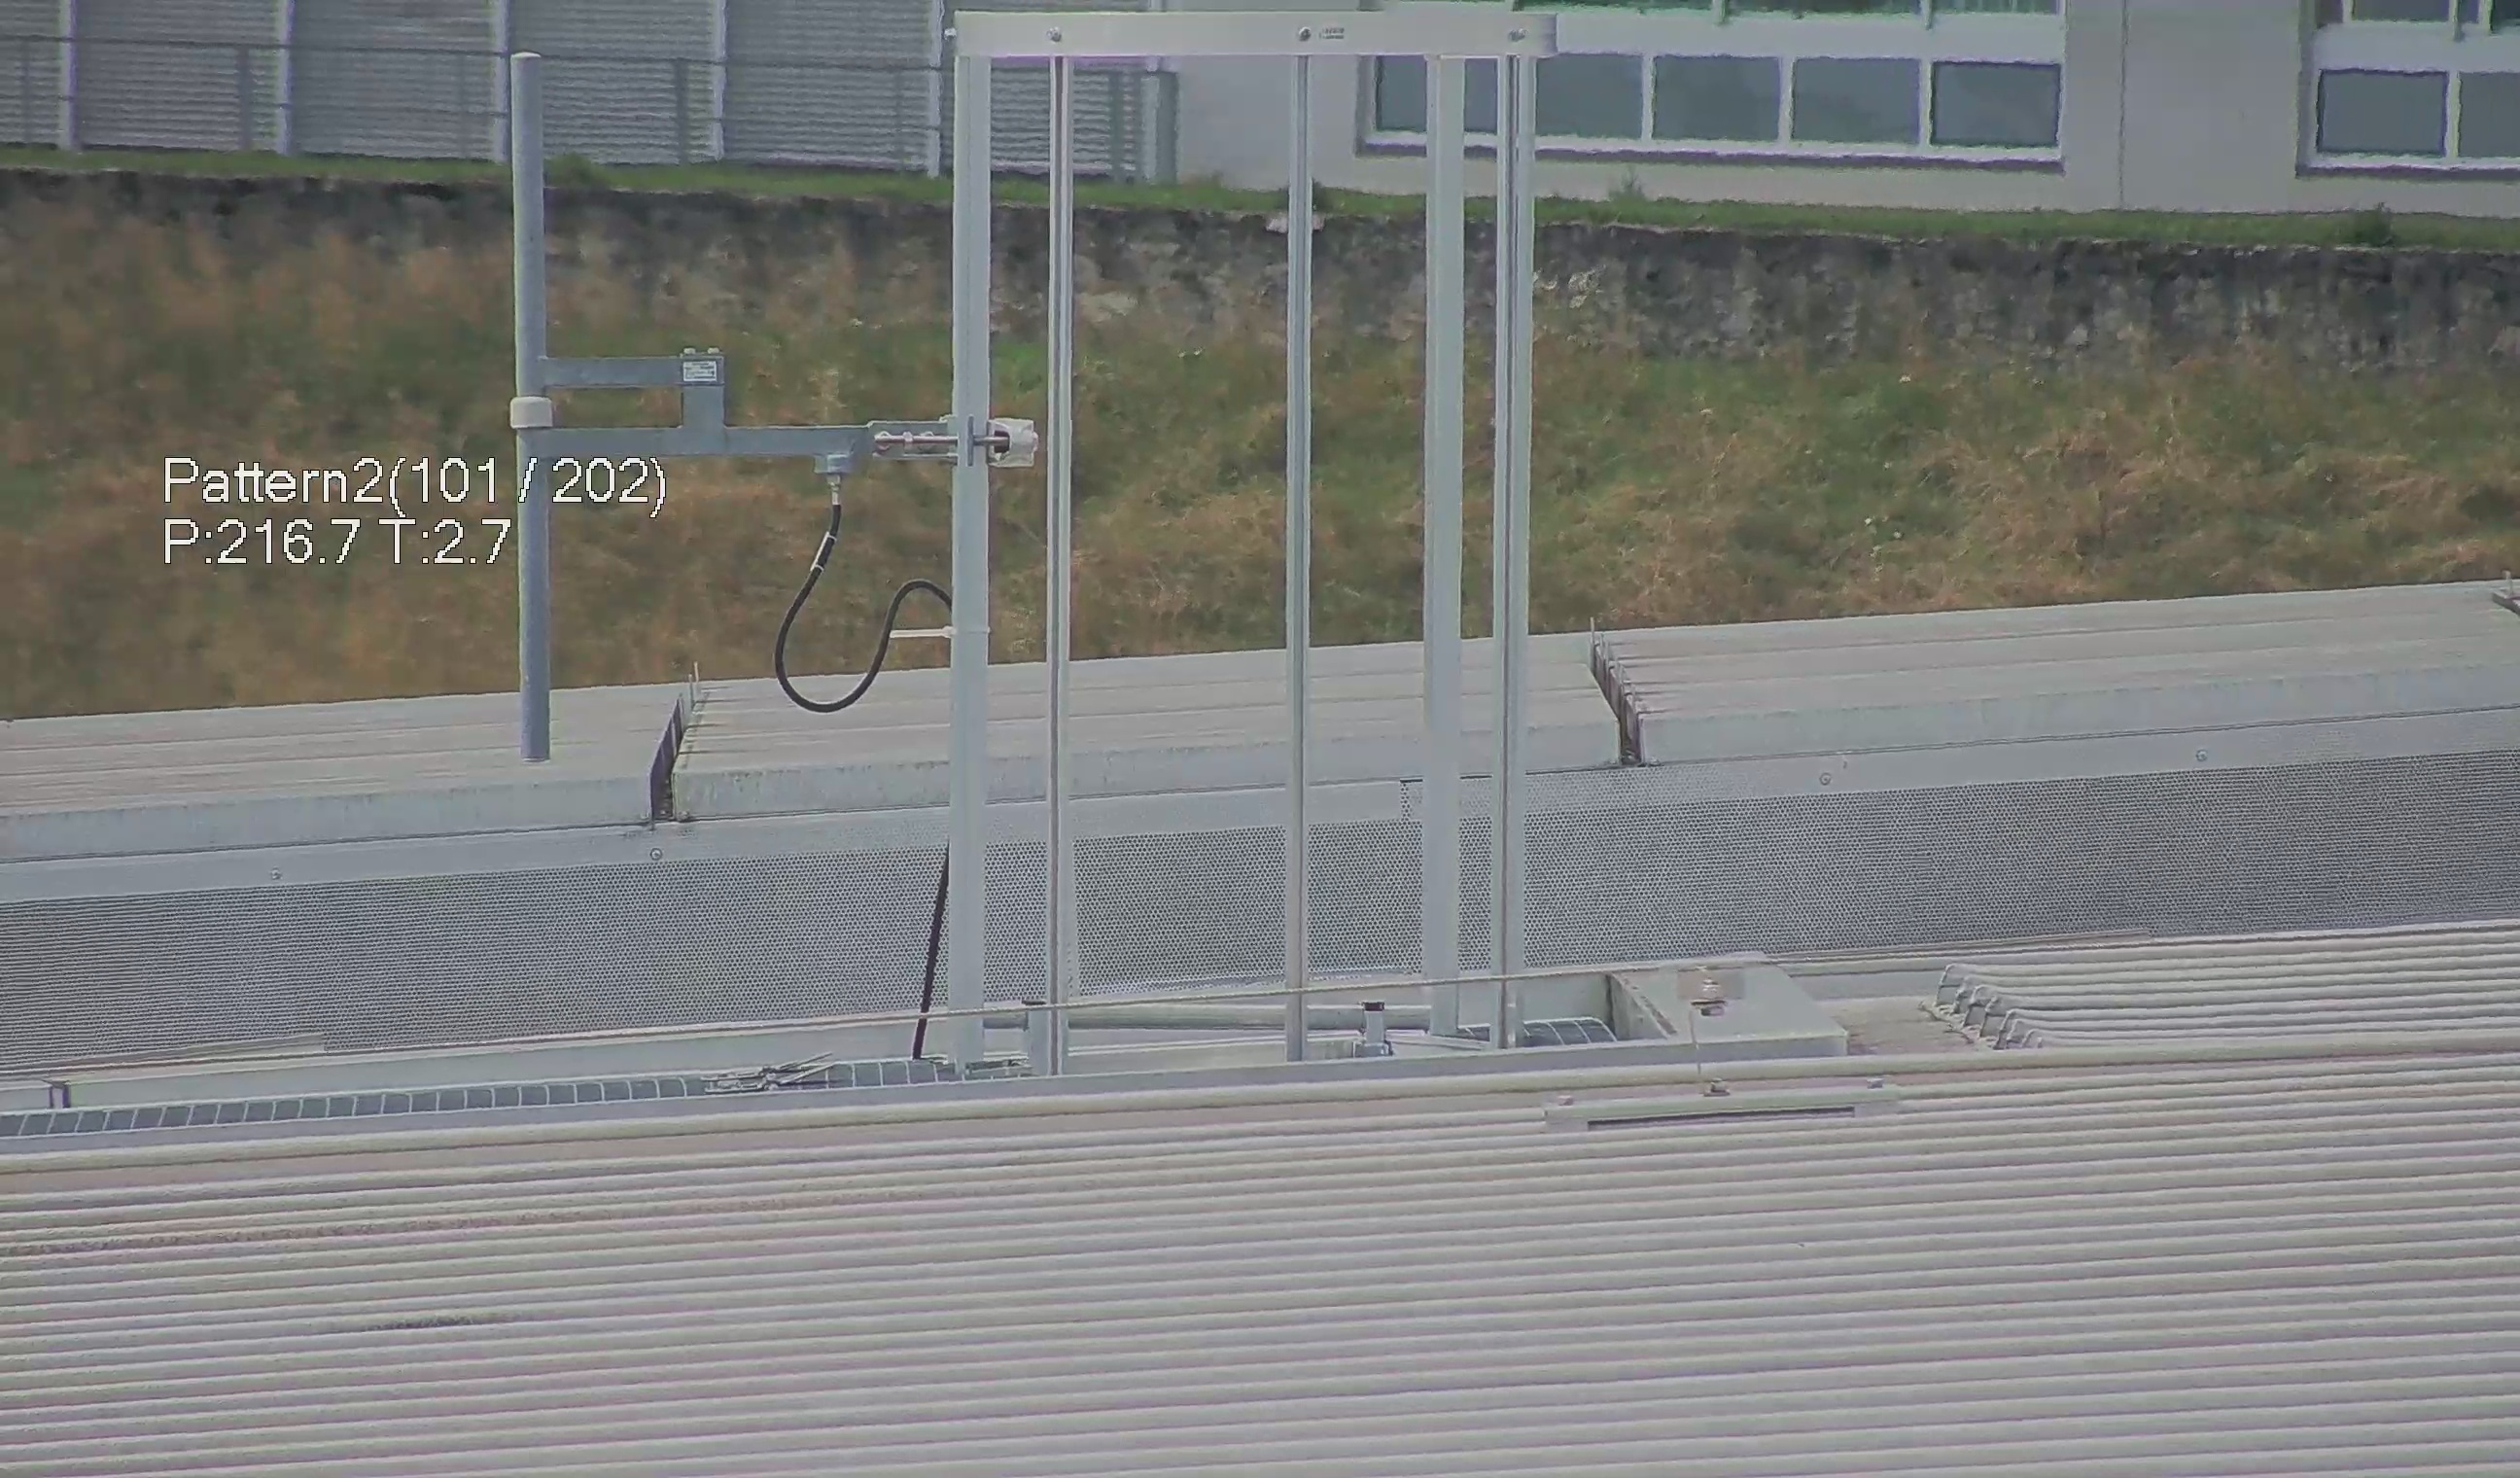Other: (1581, 612, 1672, 772)
